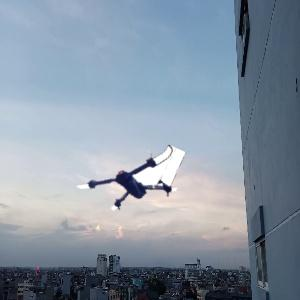drone: (80, 132, 179, 231)
